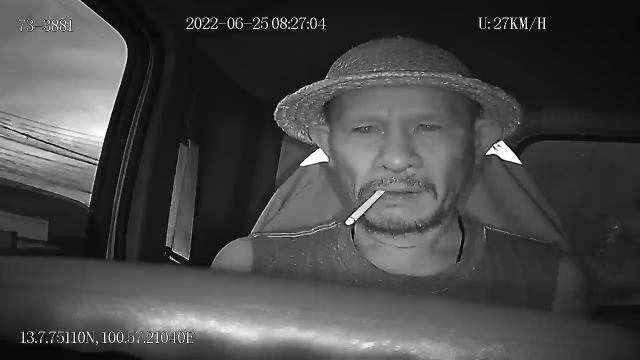SafeDriving: (406, 112, 449, 138), (346, 116, 388, 139)
Smoking: (345, 190, 387, 228)
